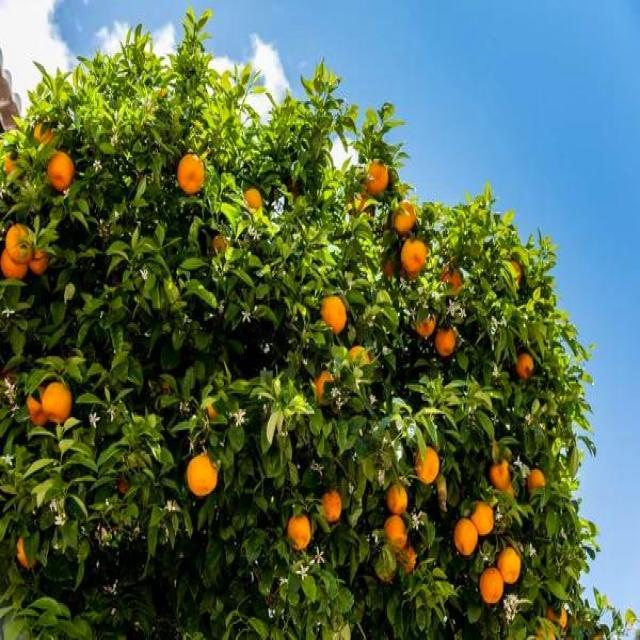Jeruk Sudah Matang: (188, 452, 218, 498), (44, 382, 72, 425), (7, 224, 36, 264), (47, 151, 74, 192), (178, 154, 204, 196), (0, 247, 30, 281), (26, 384, 49, 428), (480, 566, 505, 605), (416, 444, 440, 484), (454, 516, 478, 556), (401, 237, 427, 273), (497, 547, 522, 584), (322, 296, 346, 334), (440, 264, 464, 302), (469, 500, 494, 536), (316, 370, 338, 410), (384, 514, 407, 550), (392, 202, 418, 233), (288, 512, 310, 548), (28, 238, 49, 274), (366, 160, 388, 194), (489, 457, 512, 489), (436, 322, 456, 358), (414, 306, 436, 337), (320, 491, 342, 522), (17, 534, 37, 568), (387, 484, 408, 514), (396, 542, 416, 573), (547, 601, 568, 629), (348, 347, 371, 372), (528, 466, 546, 496), (246, 186, 264, 212), (516, 353, 534, 378), (34, 120, 53, 143), (3, 150, 19, 177), (496, 482, 518, 501), (511, 260, 524, 289), (214, 234, 232, 250)
